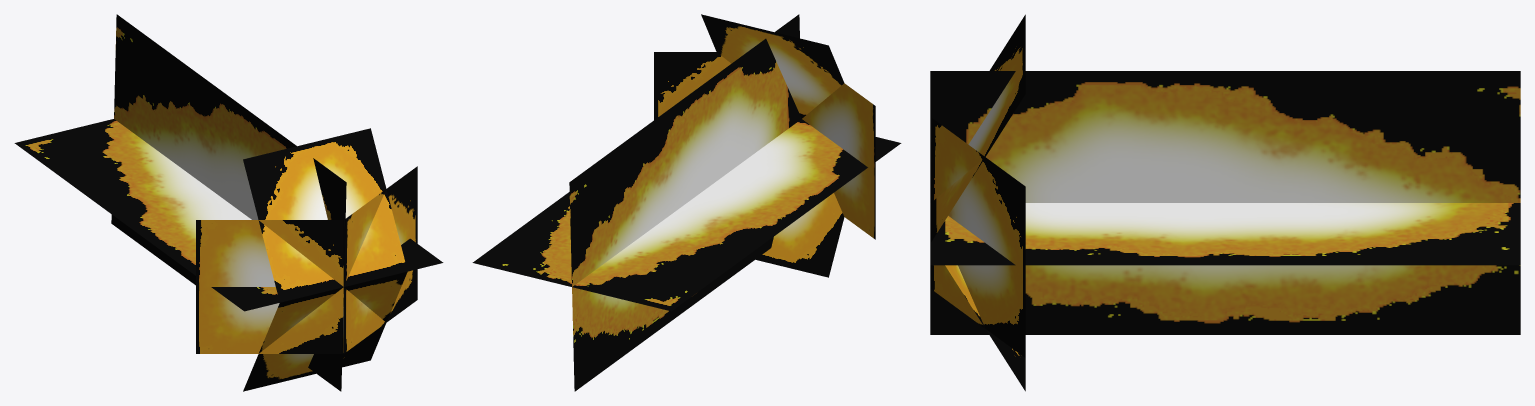
Rendered from muzzle flesh.glb.
The picture shows the model from 3 angles, left to right: view 1: azimuth 30°, elevation 25°; view 2: azimuth 150°, elevation 25°; view 3: azimuth 270°, elevation 25°; orthographic projection. The views are drawn at different scales.
Visible parts, largest first — view 1: Effect; view 2: Effect; view 3: Effect.
Part boxes in pixels (x1,y1,x2,y2): Effect: [14, 14, 443, 391]; Effect: [472, 14, 901, 391]; Effect: [930, 14, 1520, 391].
Size of the model in its own units: 1.11 by 1.11 by 2.
1 material, 1 textured.
